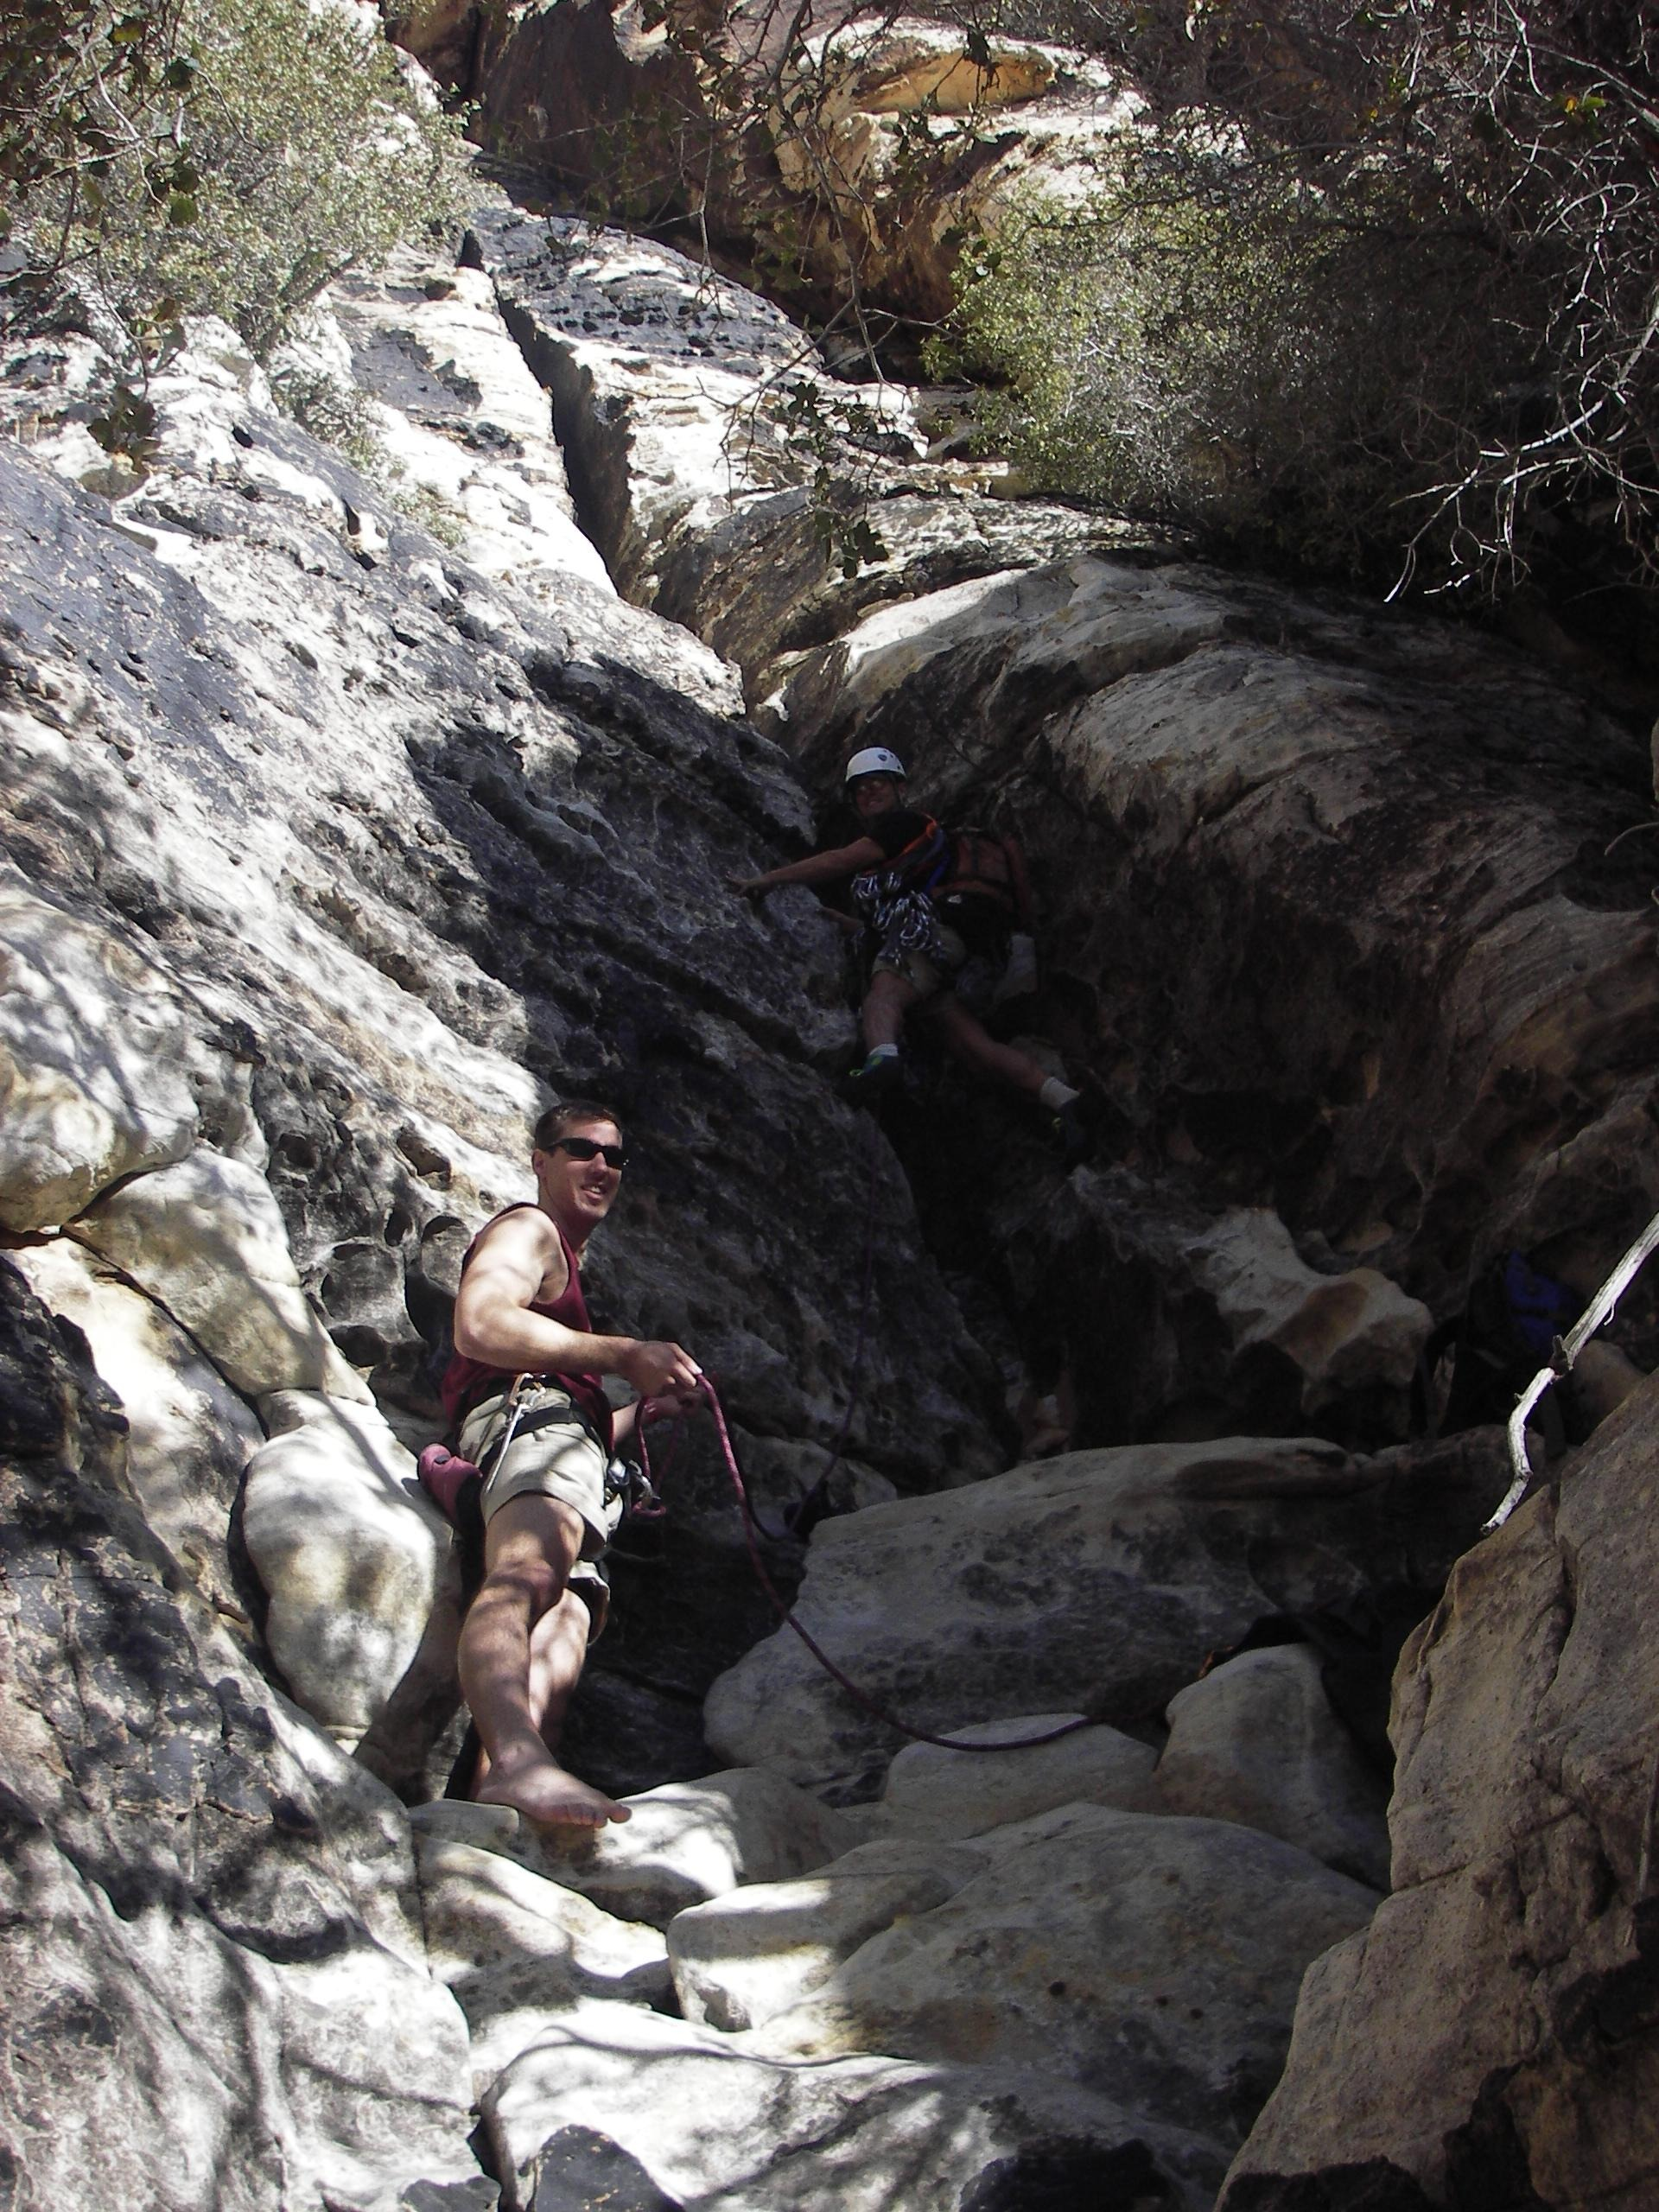helmet: (829, 740, 922, 803)
